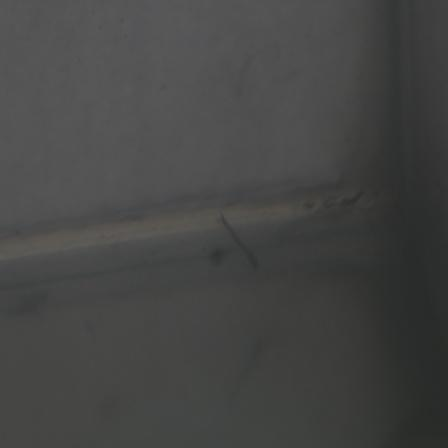Jentik-Nyamuk: (214, 208, 264, 273)
